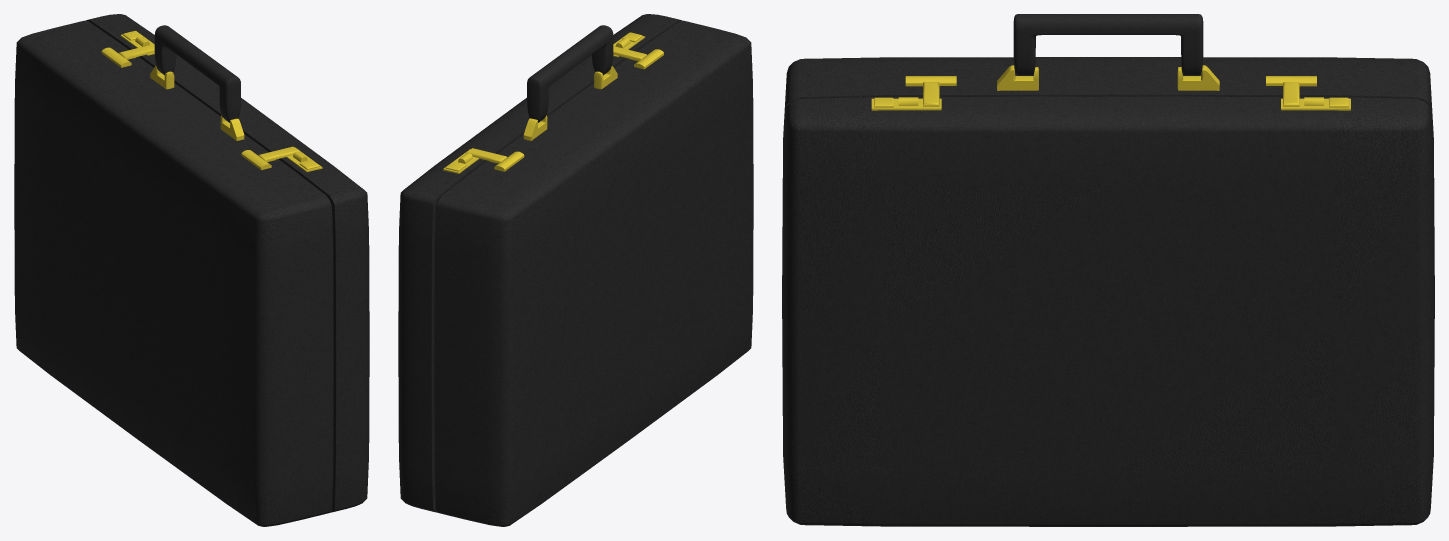
Rendered from briefcase-BwDnp0wr.glb.
The picture shows the model from 3 angles, left to right: view 1: azimuth 30°, elevation 25°; view 2: azimuth 150°, elevation 25°; view 3: azimuth 270°, elevation 25°; orthographic projection. The views are drawn at different scales.
Visible parts, largest first — view 1: Team3_Sanchez_Briefcase; view 2: Team3_Sanchez_Briefcase; view 3: Team3_Sanchez_Briefcase.
Part boxes in pixels (x1,y1,x2,y2): Team3_Sanchez_Briefcase: (14,14,369,526); Team3_Sanchez_Briefcase: (398,14,753,526); Team3_Sanchez_Briefcase: (782,14,1434,526).
Size of the model in its own units: 2.14 by 6.41 by 7.78.
2 materials, 1 textured.
